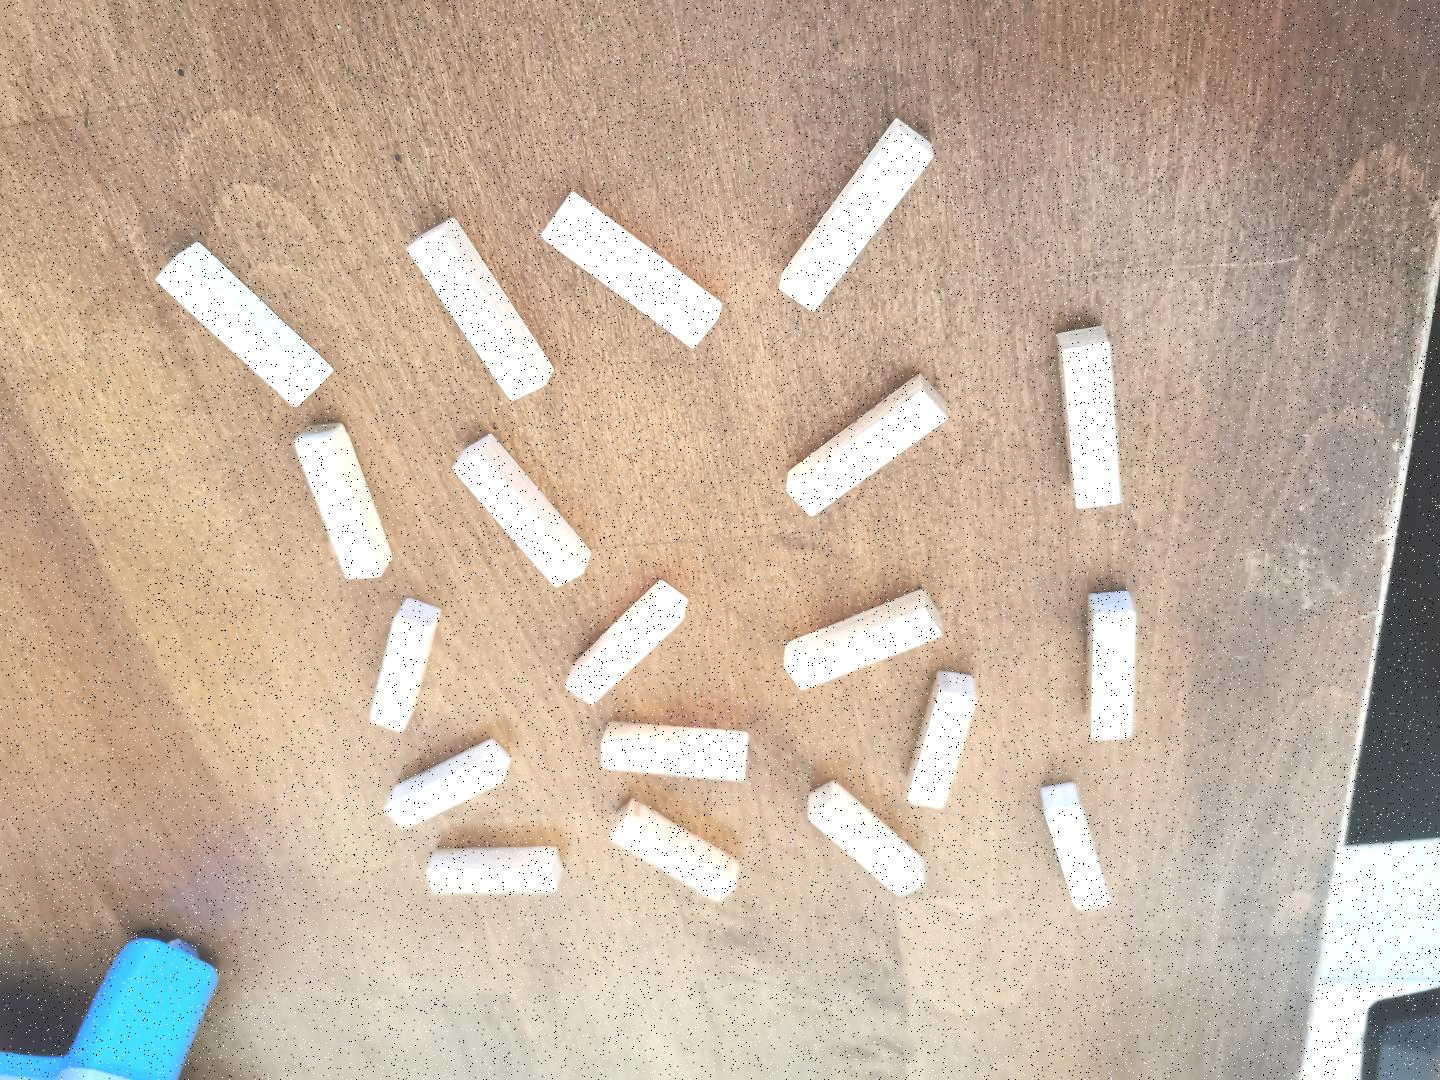jenga: (779, 118, 934, 312), (158, 242, 332, 405), (543, 194, 722, 346), (408, 219, 554, 399), (788, 374, 948, 515), (452, 436, 591, 588), (785, 591, 942, 689), (295, 424, 391, 580), (566, 582, 686, 703), (807, 782, 925, 897), (610, 799, 739, 900), (1058, 327, 1119, 509), (386, 740, 509, 827), (908, 669, 976, 808), (371, 599, 441, 732), (602, 720, 748, 782), (1041, 782, 1108, 909), (1089, 591, 1136, 740), (427, 846, 562, 894)
